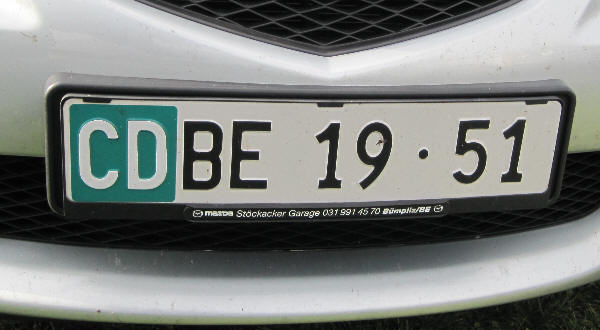license_plate: (60, 95, 563, 204)
